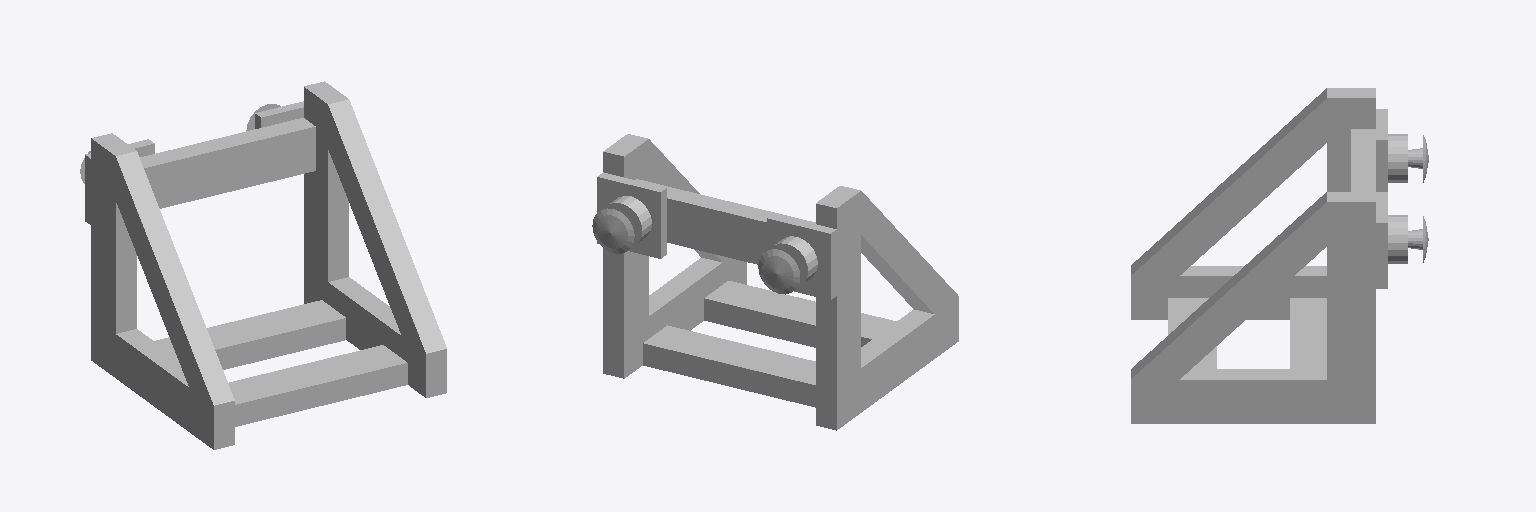
Rendered from Buffer.obj.
The picture shows the model from 3 angles: view 1: azimuth 30°, elevation 25°; view 2: azimuth 150°, elevation 25°; view 3: azimuth 270°, elevation 25°; orthographic projection.
Parts seen in each view (by area): view 1: polySurface9; view 2: polySurface9; view 3: polySurface9.
Part boxes in pixels (left/top/right/bottom): polySurface9: left=80, top=81, right=446, bottom=449; polySurface9: left=592, top=134, right=958, bottom=430; polySurface9: left=1131, top=88, right=1428, bottom=423.
Bounding box in the file's own units: 2.75 × 2.5 × 3.04.